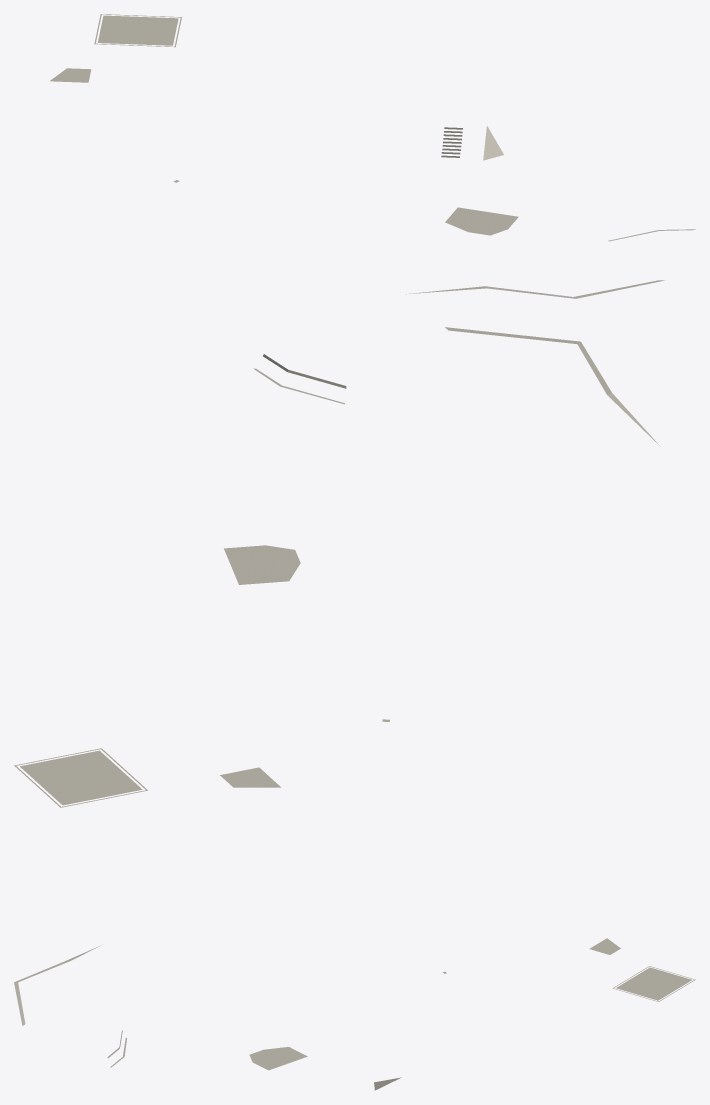
The model's file is kd_stage_135ebf_2_8.glb.
3 views of the same model, one above another, from view 1: azimuth 30°, elevation 25°; view 2: azimuth 150°, elevation 25°; view 3: azimuth 270°, elevation 25° (orthographic). The views are drawn at different scales.
Parts seen in each view (by area): view 1: kd_stage_135ebf_2_8; view 2: kd_stage_135ebf_2_8; view 3: kd_stage_135ebf_2_8.
Part boxes in pixels (x1,y1,x2,y2): kd_stage_135ebf_2_8: (50, 14, 695, 298); kd_stage_135ebf_2_8: (14, 327, 660, 807); kd_stage_135ebf_2_8: (14, 938, 695, 1090).
Bounding box in the file's own units: 88.55 × 17.7 × 138.
1 material, 1 textured.
